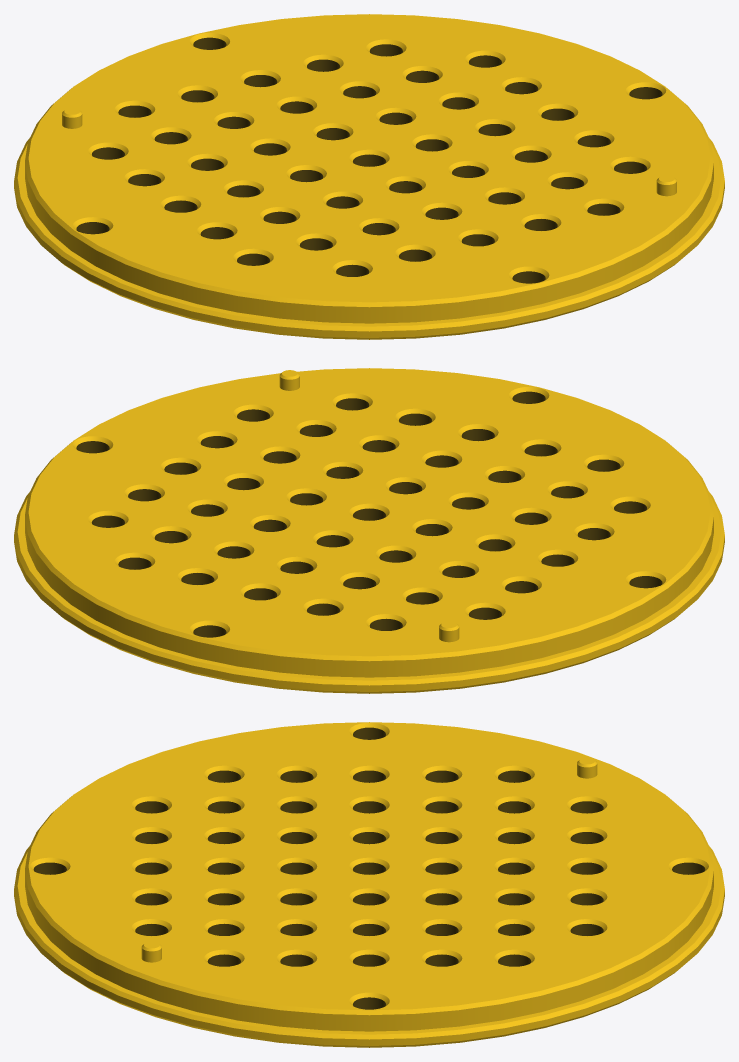
The model's file is rueda-grande.glb.
3 renders of one model, top to bottom at view 1: azimuth 30°, elevation 25°; view 2: azimuth 150°, elevation 25°; view 3: azimuth 270°, elevation 25°, orthographic.
Parts seen in each view (by area): view 1: geometry_0, geometry_1; view 2: geometry_0, geometry_1; view 3: geometry_0, geometry_1.
Part boxes in pixels (left/top/right/bottom): geometry_0: left=14, top=14, right=724, bottom=339; geometry_1: left=76, top=37, right=662, bottom=283; geometry_0: left=14, top=368, right=724, bottom=693; geometry_1: left=76, top=391, right=662, bottom=637; geometry_0: left=14, top=722, right=724, bottom=1047; geometry_1: left=33, top=727, right=705, bottom=1009.
Size of the model in its own units: 0.098 by 0.007 by 0.098.
